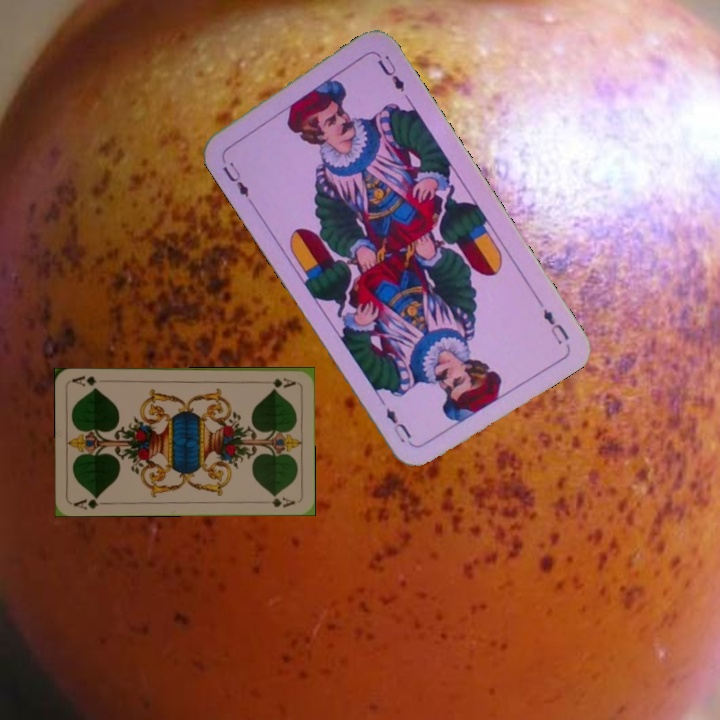EU: (217, 152, 255, 204), (538, 304, 572, 348)
GA: (70, 492, 110, 512), (268, 374, 298, 390)
